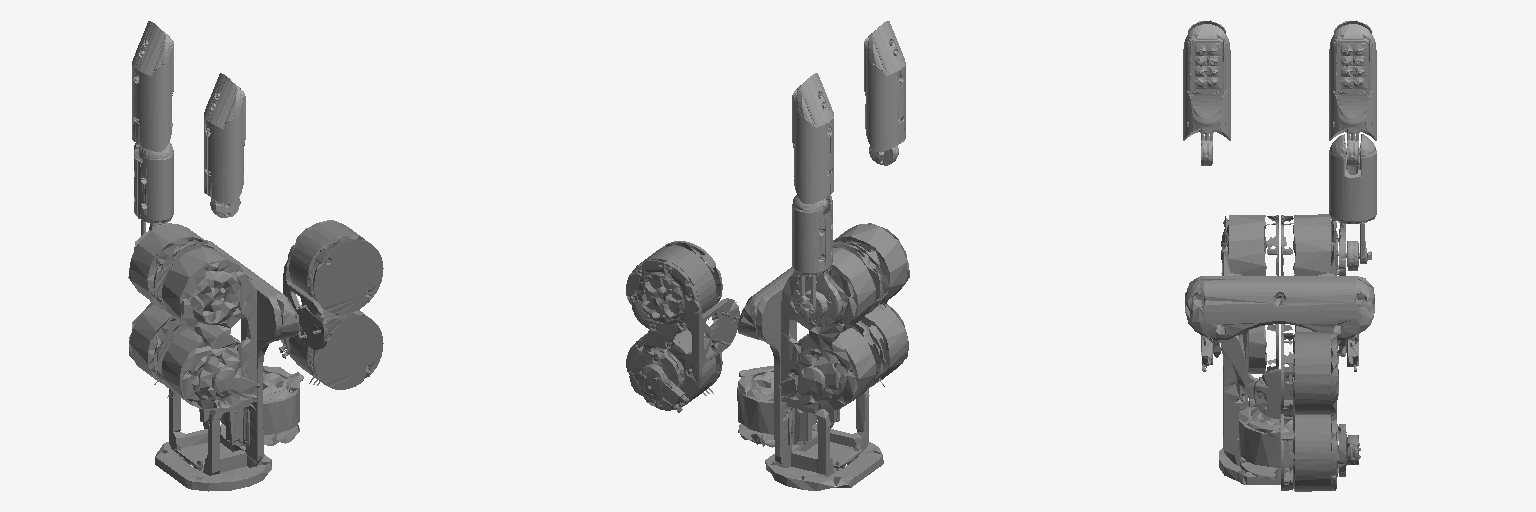
robot.urdf — aristo-v1.0:
<?xml version="1.0" ?>
<!-- Generated using onshape-to-robot -->
<!-- Onshape https://cad.onshape.com/documents/f19431feda8c6b4f06c8f502/w/9d717de2ff92d2250f6d3169/e/4e22a88f3ec38cb0b8bcda99 -->
<robot name="aristo-v1.0">
  <!-- Virtual base link added to allow hand yaw rotation -->
  <link name="virtual_base">
    <inertial>
      <origin xyz="0 0 0" rpy="0 0 0"/>
      <mass value="0.001"/>
      <inertia ixx="1e-08" ixy="0" ixz="0" iyy="1e-08" iyz="0" izz="1e-08"/>
    </inertial>
  </link>
  <joint name="joint0" type="fixed">
    <origin xyz="0 0 -.091" rpy="-1.5708 0 1.5708"/>
    <parent link="virtual_base"/>
    <child link="hand_base"/>
    <axis xyz="0 0 1"/>
  </joint>
  <!-- Link hand_base -->
  <link name="hand_base">
    <inertial>
      <origin xyz="1.14624e-05 -0.0735402 0.00270001" rpy="0 0 0"/>
      <mass value="0.739028"/>
      <inertia ixx="0.00120378" ixy="-5.74097e-07" ixz="9.38706e-08" iyy="0.000581026" iyz="0.000226035" izz="0.00122618"/>
    </inertial>
    <!-- Part hand_base_parts -->
    <visual>
      <origin xyz="1.14624e-05 -0.0735402 0.00270001" rpy="0 -0 0"/>
      <geometry>
        <mesh filename="package://assets/hand_base_visual.stl"/>
      </geometry>
      <material name="hand_base_parts_material">
        <color rgba="0.582976 0.583383 0.583584 1"/>
      </material>
    </visual>
    <collision>
      <origin xyz="1.14624e-05 -0.0735402 0.00270001" rpy="0 -0 0"/>
      <geometry>
        <mesh filename="package://assets/hand_base_collision.stl"/>
      </geometry>
    </collision>
  </link>
  <!-- Link thumb_metacarpal -->
  <link name="thumb_metacarpal">
    <inertial>
      <origin xyz="5.08388e-05 -0.0186588 0.0228524" rpy="0 0 0"/>
      <mass value="0.120521"/>
      <inertia ixx="2.56992e-05" ixy="5.49331e-08" ixz="-4.85452e-08" iyy="3.3197e-05" iyz="2.03706e-06" izz="2.19064e-05"/>
    </inertial>
    <!-- Part thumb_metacarpal_parts -->
    <visual>
      <origin xyz="5.08388e-05 -0.0186588 0.0228524" rpy="-1.5708 1.92949e-16 -2.97318e-15"/>
      <geometry>
        <mesh filename="package://assets/thumb_metacarpal_visual.stl"/>
      </geometry>
      <material name="thumb_metacarpal_parts_material">
        <color rgba="0.55008 0.55008 0.55008 1"/>
      </material>
    </visual>
    <collision>
      <origin xyz="5.08388e-05 -0.0186588 0.0228524" rpy="-1.5708 1.92949e-16 -2.97318e-15"/>
      <geometry>
        <mesh filename="package://assets/thumb_metacarpal_collision.stl"/>
      </geometry>
    </collision>
  </link>
  <!-- Link thumb_actuators -->
  <link name="thumb_actuators">
    <inertial>
      <origin xyz="0.00119788 -0.0189545 -0.0225138" rpy="0 0 0"/>
      <mass value="0.240831"/>
      <inertia ixx="4.65934e-05" ixy="4.93309e-06" ixz="-5.99186e-07" iyy="0.00017164" iyz="-1.38804e-06" izz="0.000155026"/>
    </inertial>
    <!-- Part thumb_actuators_parts -->
    <visual>
      <origin xyz="0.00119788 -0.0189545 -0.0225138" rpy="-1.05301e-16 3.1033e-15 -1.5708"/>
      <geometry>
        <mesh filename="package://assets/thumb_actuators_visual.stl"/>
      </geometry>
      <material name="thumb_actuators_parts_material">
        <color rgba="0.545814 0.546439 0.546747 1"/>
      </material>
    </visual>
    <collision>
      <origin xyz="0.00119788 -0.0189545 -0.0225138" rpy="-1.05301e-16 3.1033e-15 -1.5708"/>
      <geometry>
        <mesh filename="package://assets/thumb_actuators_collision.stl"/>
      </geometry>
    </collision>
  </link>
  <!-- Link thumb_proximal -->
  <link name="thumb_proximal">
    <inertial>
      <origin xyz="0.0275353 8.61887e-05 0.00673205" rpy="0 0 0"/>
      <mass value="0.0306406"/>
      <inertia ixx="1.81672e-06" ixy="-4.24383e-08" ixz="-6.4245e-07" iyy="1.85497e-05" iyz="-2.07897e-09" izz="1.81545e-05"/>
    </inertial>
    <!-- Part thumb_proximal_parts -->
    <visual>
      <origin xyz="0.0275353 8.61887e-05 0.00673205" rpy="1.5708 -1.5708 0"/>
      <geometry>
        <mesh filename="package://assets/thumb_proximal_visual.stl"/>
      </geometry>
      <material name="thumb_proximal_parts_material">
        <color rgba="0.63463 0.635887 0.633109 1"/>
      </material>
    </visual>
    <collision>
      <origin xyz="0.0275353 8.61887e-05 0.00673205" rpy="1.5708 -1.5708 0"/>
      <geometry>
        <mesh filename="package://assets/thumb_proximal_collision.stl"/>
      </geometry>
    </collision>
  </link>
  <!-- Link thumb_distal -->
  <link name="thumb_distal">
    <inertial>
      <origin xyz="-0.0330685 -0.00101822 -0.00300906" rpy="0 0 0"/>
      <mass value="0.0219871"/>
      <inertia ixx="1.21431e-06" ixy="-1.08631e-07" ixz="-2.69402e-09" iyy="9.73575e-06" iyz="2.19896e-10" izz="9.42439e-06"/>
    </inertial>
    <!-- Part thumb_distal_parts -->
    <visual>
      <origin xyz="-0.0330685 -0.00101822 -0.00300906" rpy="-1.5708 -1.5708 0"/>
      <geometry>
        <mesh filename="package://assets/thumb_distal_visual.stl"/>
      </geometry>
      <material name="thumb_distal_parts_material">
        <color rgba="0.670015 0.670243 0.668779 1"/>
      </material>
    </visual>
    <collision>
      <origin xyz="-0.0330685 -0.00101822 -0.00300906" rpy="-1.5708 -1.5708 0"/>
      <geometry>
        <mesh filename="package://assets/thumb_distal_collision.stl"/>
      </geometry>
    </collision>
  </link>

  <link name="thumb_tip">
    <inertial>
      <origin xyz="0 0 0" rpy="0 0 0"/>
      <mass value="0.001"/>
      <inertia ixx="1e-08" ixy="0" ixz="0" iyy="1e-08" iyz="0" izz="1e-08"/>
    </inertial>
  </link>
  <joint name="thumb_distal_to_tip" type="fixed">
    <origin xyz="-.065 0 0" rpy="0 0 0"/>
    <parent link="thumb_distal"/>
    <child link="thumb_tip"/>
    <axis xyz="0 0 1"/>
  </joint>
  <!-- Joint from thumb_proximal to thumb_distal -->
  <joint name="joint4" type="revolute">
    <origin xyz="0.06 -1.38778e-17 0.0105" rpy="-3.27793e-15 -3.41823e-15 3.14159"/>
    <parent link="thumb_proximal"/>
    <child link="thumb_distal"/>
    <axis xyz="0 0 1"/>
    <limit effort="10" velocity="10" lower="-1.5708" upper="0"/>
  </joint>
  <!-- Joint from thumb_actuators to thumb_proximal -->
  <joint name="joint3" type="revolute">
    <origin xyz="-0.022 -0.0305 -0.0235" rpy="-1.5708 -7.76068e-17 3.14159"/>
    <parent link="thumb_actuators"/>
    <child link="thumb_proximal"/>
    <axis xyz="0 0 1"/>
    <limit effort="10" velocity="10" lower="-0.7854" upper="0.7854"/>
  </joint>
  <!-- Joint from thumb_metacarpal to thumb_actuators -->
  <joint name="joint2" type="revolute">
    <origin xyz="-1.42383e-10 -0.0315 0.025" rpy="-1.5708 1.5708 0"/>
    <parent link="thumb_metacarpal"/>
    <child link="thumb_actuators"/>
    <axis xyz="0 0 1"/>
    <limit effort="10" velocity="10" lower="-0.7854" upper="0.7854"/>
  </joint>
  <!-- Joint from hand_base to thumb_metacarpal -->
  <joint name="joint1" type="revolute">
    <origin xyz="4.56293e-16 -0.044 -0.0285" rpy="1.5708 -2.97318e-15 -1.92949e-16"/>
    <parent link="hand_base"/>
    <child link="thumb_metacarpal"/>
    <axis xyz="0 0 1"/>
    <limit effort="10" velocity="10" lower="-0.7854" upper="0.7854"/>
  </joint>
  <!-- Link index_proximal -->
  <link name="index_proximal">
    <inertial>
      <origin xyz="0.0275353 -8.61566e-05 0.00673211" rpy="0 0 0"/>
      <mass value="0.0306406"/>
      <inertia ixx="1.81666e-06" ixy="4.24695e-08" ixz="-6.42349e-07" iyy="1.85498e-05" iyz="1.97055e-09" izz="1.81546e-05"/>
    </inertial>
    <!-- Part index_proximal_parts -->
    <visual>
      <origin xyz="0.0275353 -8.61566e-05 0.00673211" rpy="1.5708 -1.5708 0"/>
      <geometry>
        <mesh filename="package://assets/index_proximal_visual.stl"/>
      </geometry>
      <material name="index_proximal_parts_material">
        <color rgba="0.63463 0.635887 0.633109 1"/>
      </material>
    </visual>
    <collision>
      <origin xyz="0.0275353 -8.61566e-05 0.00673211" rpy="1.5708 -1.5708 0"/>
      <geometry>
        <mesh filename="package://assets/index_proximal_collision.stl"/>
      </geometry>
    </collision>
  </link>
  <!-- Link index_distal -->
  <link name="index_distal">
    <inertial>
      <origin xyz="-0.0330685 0.00101822 -0.00299094" rpy="0 0 0"/>
      <mass value="0.0219871"/>
      <inertia ixx="1.21431e-06" ixy="1.08631e-07" ixz="2.69402e-09" iyy="9.73575e-06" iyz="2.19896e-10" izz="9.42439e-06"/>
    </inertial>
    <!-- Part index_distal_parts -->
    <visual>
      <origin xyz="-0.0330685 0.00101822 -0.00299094" rpy="-1.5708 -1.5708 0"/>
      <geometry>
        <mesh filename="package://assets/index_distal_visual.stl"/>
      </geometry>
      <material name="index_distal_parts_material">
        <color rgba="0.670015 0.670243 0.668779 1"/>
      </material>
    </visual>
    <collision>
      <origin xyz="-0.0330685 0.00101822 -0.00299094" rpy="-1.5708 -1.5708 0"/>
      <geometry>
        <mesh filename="package://assets/index_distal_collision.stl"/>
      </geometry>
    </collision>
  </link>
  <!-- Link index_tip -->
  <link name="index_tip">
    <inertial>
      <origin xyz="0 0 0" rpy="0 0 0"/>
      <mass value="0.001"/>
      <inertia ixx="1e-08" ixy="0" ixz="0" iyy="1e-08" iyz="0" izz="1e-08"/>
    </inertial>
  </link>
  <!-- Joint from index distal to index tip -->
  <joint name="index_distal_to_tip" type="fixed">
    <origin xyz="-.065 0 0" rpy="0 0 0"/>
    <parent link="index_distal"/>
    <child link="index_tip"/>
    <axis xyz="0 0 1"/>
  </joint>
  <!-- Joint from index_proximal to index_distal -->
  <joint name="joint6" type="revolute">
    <origin xyz="0.06 0 0.0105" rpy="-1.11022e-16 -4.70442e-24 3.14159"/>
    <parent link="index_proximal"/>
    <child link="index_distal"/>
    <axis xyz="0 0 1"/>
    <limit effort="10" velocity="10" lower="0" upper="1.5708"/>
  </joint>
  <!-- Joint from hand_base to index_proximal -->
  <joint name="joint5" type="revolute">
    <origin xyz="0.0305 -0.113 0.0145" rpy="-1.5708 5.38458e-14 -1.5708"/>
    <parent link="hand_base"/>
    <child link="index_proximal"/>
    <axis xyz="0 0 1"/>
    <limit effort="10" velocity="10" lower="0" upper="1.5708"/>
  </joint>
  <!-- Link middle_proximal -->
  <link name="middle_proximal">
    <inertial>
      <origin xyz="0.0275353 -8.61887e-05 -0.00673205" rpy="0 0 0"/>
      <mass value="0.0306406"/>
      <inertia ixx="1.81672e-06" ixy="4.24383e-08" ixz="6.4245e-07" iyy="1.85497e-05" iyz="-2.07897e-09" izz="1.81545e-05"/>
    </inertial>
    <!-- Part middle_proximal_parts -->
    <visual>
      <origin xyz="0.0275353 -8.61887e-05 -0.00673205" rpy="1.5708 -1.5708 0"/>
      <geometry>
        <mesh filename="package://assets/middle_proximal_visual.stl"/>
      </geometry>
      <material name="middle_proximal_parts_material">
        <color rgba="0.63463 0.635887 0.633109 1"/>
      </material>
    </visual>
    <collision>
      <origin xyz="0.0275353 -8.61887e-05 -0.00673205" rpy="1.5708 -1.5708 0"/>
      <geometry>
        <mesh filename="package://assets/middle_proximal_collision.stl"/>
      </geometry>
    </collision>
  </link>
  <!-- Link middle_distal -->
  <link name="middle_distal">
    <inertial>
      <origin xyz="-0.0330685 0.00101822 0.00300906" rpy="0 0 0"/>
      <mass value="0.0219871"/>
      <inertia ixx="1.21431e-06" ixy="1.08631e-07" ixz="2.69402e-09" iyy="9.73575e-06" iyz="2.19896e-10" izz="9.42439e-06"/>
    </inertial>
    <!-- Part middle_distal_parts -->
    <visual>
      <origin xyz="-0.0330685 0.00101822 0.00300906" rpy="-1.5708 -1.5708 0"/>
      <geometry>
        <mesh filename="package://assets/middle_distal_visual.stl"/>
      </geometry>
      <material name="middle_distal_parts_material">
        <color rgba="0.670015 0.670243 0.668779 1"/>
      </material>
    </visual>
    <collision>
      <origin xyz="-0.0330685 0.00101822 0.00300906" rpy="-1.5708 -1.5708 0"/>
      <geometry>
        <mesh filename="package://assets/middle_distal_collision.stl"/>
      </geometry>
    </collision>
  </link>
  <!-- Link middle_tip -->
  <link name="middle_tip">
    <inertial>
      <origin xyz="0 0 0" rpy="0 0 0"/>
      <mass value="0.001"/>
      <inertia ixx="1e-08" ixy="0" ixz="0" iyy="1e-08" iyz="0" izz="1e-08"/>
    </inertial>
  </link>
  <!-- Joint from middle distal to middle tip -->
  <joint name="middle_distal_to_tip" type="fixed">
    <origin xyz="-.065 0 0" rpy="0 0 0"/>
    <parent link="middle_distal"/>
    <child link="middle_tip"/>
    <axis xyz="0 0 1"/>
  </joint>
  <!-- Joint from middle_proximal to middle_distal -->
  <joint name="joint8" type="revolute">
    <origin xyz="0.06 5.20417e-18 -0.0105" rpy="5.1871e-17 2.33151e-17 -3.14159"/>
    <parent link="middle_proximal"/>
    <child link="middle_distal"/>
    <axis xyz="0 0 1"/>
    <limit effort="10" velocity="10" lower="0" upper="1.5708"/>
  </joint>
  <!-- Joint from hand_base to middle_proximal -->
  <joint name="joint7" type="revolute">
    <origin xyz="-0.0305 -0.113 0.0145" rpy="-1.5708 -5.41789e-14 -1.5708"/>
    <parent link="hand_base"/>
    <child link="middle_proximal"/>
    <axis xyz="0 0 1"/>
    <limit effort="10" velocity="10" lower="0" upper="1.5708"/>
  </joint>
</robot>

--- Facts derived from the render (not from the file) ---
3 views of the same robot in one strip: view 1: azimuth 30°, elevation 25°; view 2: azimuth 150°, elevation 25°; view 3: azimuth 270°, elevation 25° (orthographic).
Model aristo-v1.0 with 13 links and 12 joints (8 revolute, 4 fixed), rooted at virtual_base, posed all joints at 0.
Visible links, largest first — view 1: hand_base, thumb_actuators, middle_distal, index_distal, index_proximal; view 2: hand_base, thumb_actuators, middle_distal, index_proximal, index_distal; view 3: hand_base, thumb_actuators, middle_distal, index_distal, index_proximal.
Link boxes in pixels (x1=…): hand_base: x1=128, y1=223, x2=303, y2=491; thumb_actuators: x1=279, y1=220, x2=383, y2=389; middle_distal: x1=204, y1=73, x2=245, y2=217; index_distal: x1=132, y1=21, x2=173, y2=160; index_proximal: x1=134, y1=142, x2=173, y2=235; hand_base: x1=737, y1=223, x2=909, y2=490; thumb_actuators: x1=626, y1=241, x2=739, y2=412; middle_distal: x1=864, y1=21, x2=905, y2=165; index_proximal: x1=792, y1=195, x2=841, y2=326; index_distal: x1=792, y1=73, x2=833, y2=213; hand_base: x1=1185, y1=214, x2=1374, y2=484; thumb_actuators: x1=1254, y1=332, x2=1360, y2=491; middle_distal: x1=1183, y1=20, x2=1230, y2=165; index_distal: x1=1329, y1=20, x2=1376, y2=165; index_proximal: x1=1329, y1=134, x2=1376, y2=275.
Bounding box of the posed robot: 0.1413 × 0.101 × 0.2486 m (x, y, z).
Meshes: 9 distinct files referenced, 5 mesh visuals loaded (5 binary STL); not drawn: 4 (reference not matched to a file when rendering).